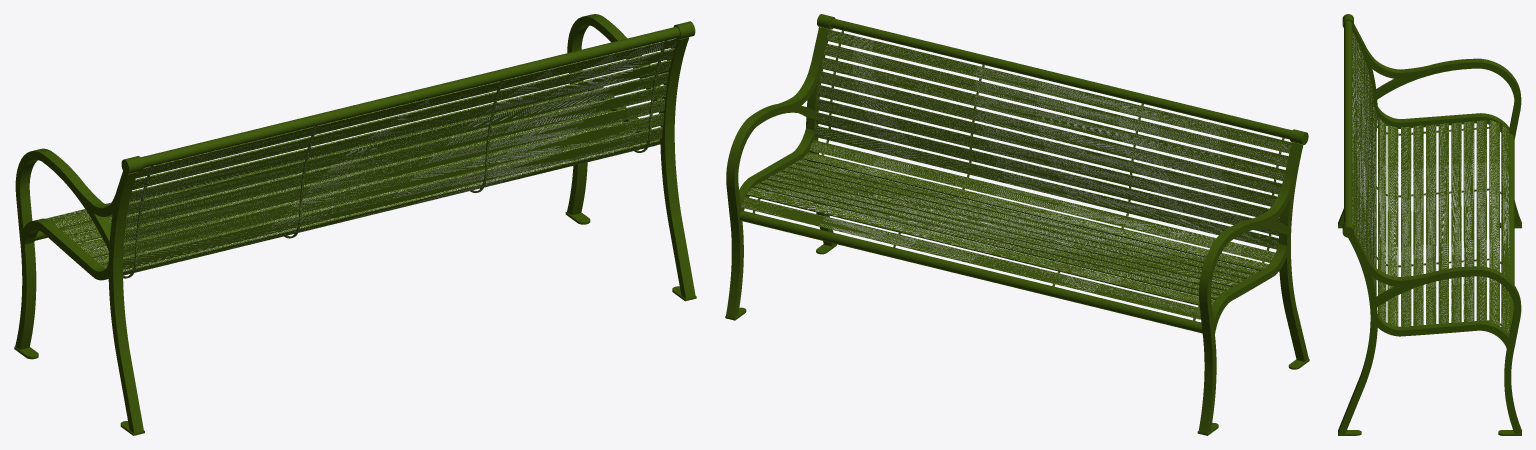
3 renders of one model, left to right at view 1: azimuth 30°, elevation 25°; view 2: azimuth 150°, elevation 25°; view 3: azimuth 270°, elevation 25°, orthographic. The views are drawn at different scales.
Visible parts, largest first — view 1: mesh57_mesh57-geometry, mesh20_mesh20-geometry, mesh13_mesh13-geometry, mesh19_mesh19-geometry, mesh11_mesh11-geometry, mesh43_mesh43-geometry, mesh10_mesh10-geometry, mesh5_mesh5-geometry, mesh61_mesh61-geometry, mesh2_mesh2-geometry, mesh3_mesh3-geometry, mesh15_mesh15-geometry (+5 smaller); view 2: mesh57_mesh57-geometry, mesh61_mesh61-geometry, mesh2_mesh2-geometry, mesh5_mesh5-geometry, mesh3_mesh3-geometry, mesh10_mesh10-geometry, mesh16_mesh16-geometry, mesh11_mesh11-geometry, mesh15_mesh15-geometry, mesh19_mesh19-geometry, mesh13_mesh13-geometry, mesh20_mesh20-geometry (+11 smaller); view 3: mesh61_mesh61-geometry, mesh57_mesh57-geometry, mesh4_mesh4-geometry, mesh14_mesh14-geometry, mesh12_mesh12-geometry, mesh9_mesh9-geometry, mesh8_mesh8-geometry, mesh18_mesh18-geometry, mesh17_mesh17-geometry, mesh6_mesh6-geometry, mesh7_mesh7-geometry, mesh43_mesh43-geometry (+10 smaller).
Boxes of the visible parts, bbox=[...] form: mesh57_mesh57-geometry: bbox=[15, 148, 143, 433]; mesh20_mesh20-geometry: bbox=[123, 113, 664, 256]; mesh13_mesh13-geometry: bbox=[124, 98, 665, 242]; mesh19_mesh19-geometry: bbox=[123, 127, 662, 269]; mesh11_mesh11-geometry: bbox=[125, 85, 666, 228]; mesh43_mesh43-geometry: bbox=[141, 26, 679, 167]; mesh10_mesh10-geometry: bbox=[127, 72, 668, 214]; mesh5_mesh5-geometry: bbox=[129, 59, 671, 201]; mesh61_mesh61-geometry: bbox=[567, 14, 695, 298]; mesh2_mesh2-geometry: bbox=[132, 48, 674, 190]; mesh3_mesh3-geometry: bbox=[135, 38, 677, 178]; mesh15_mesh15-geometry: bbox=[123, 139, 659, 275]; mesh57_mesh57-geometry: bbox=[1198, 142, 1308, 433]; mesh61_mesh61-geometry: bbox=[726, 27, 835, 318]; mesh2_mesh2-geometry: bbox=[824, 43, 1288, 167]; mesh5_mesh5-geometry: bbox=[821, 57, 1285, 181]; mesh3_mesh3-geometry: bbox=[826, 29, 1291, 153]; mesh10_mesh10-geometry: bbox=[819, 71, 1281, 194]; mesh16_mesh16-geometry: bbox=[741, 197, 1200, 319]; mesh11_mesh11-geometry: bbox=[818, 85, 1276, 206]; mesh15_mesh15-geometry: bbox=[809, 140, 1275, 262]; mesh19_mesh19-geometry: bbox=[814, 125, 1278, 249]; mesh13_mesh13-geometry: bbox=[817, 98, 1279, 222]; mesh20_mesh20-geometry: bbox=[816, 112, 1278, 235]; mesh61_mesh61-geometry: bbox=[1338, 231, 1521, 433]; mesh57_mesh57-geometry: bbox=[1338, 24, 1521, 226]; mesh4_mesh4-geometry: bbox=[1463, 121, 1474, 321]; mesh14_mesh14-geometry: bbox=[1387, 125, 1398, 326]; mesh12_mesh12-geometry: bbox=[1489, 120, 1499, 325]; mesh9_mesh9-geometry: bbox=[1476, 120, 1486, 321]; mesh8_mesh8-geometry: bbox=[1451, 122, 1461, 322]; mesh18_mesh18-geometry: bbox=[1438, 123, 1448, 323]; mesh17_mesh17-geometry: bbox=[1426, 124, 1436, 324]; mesh6_mesh6-geometry: bbox=[1413, 125, 1423, 325]; mesh7_mesh7-geometry: bbox=[1401, 126, 1411, 326]; mesh43_mesh43-geometry: bbox=[1344, 20, 1352, 222].
Bounding box in the file's own units: 0.8628 × 0.3956 × 0.3147.
